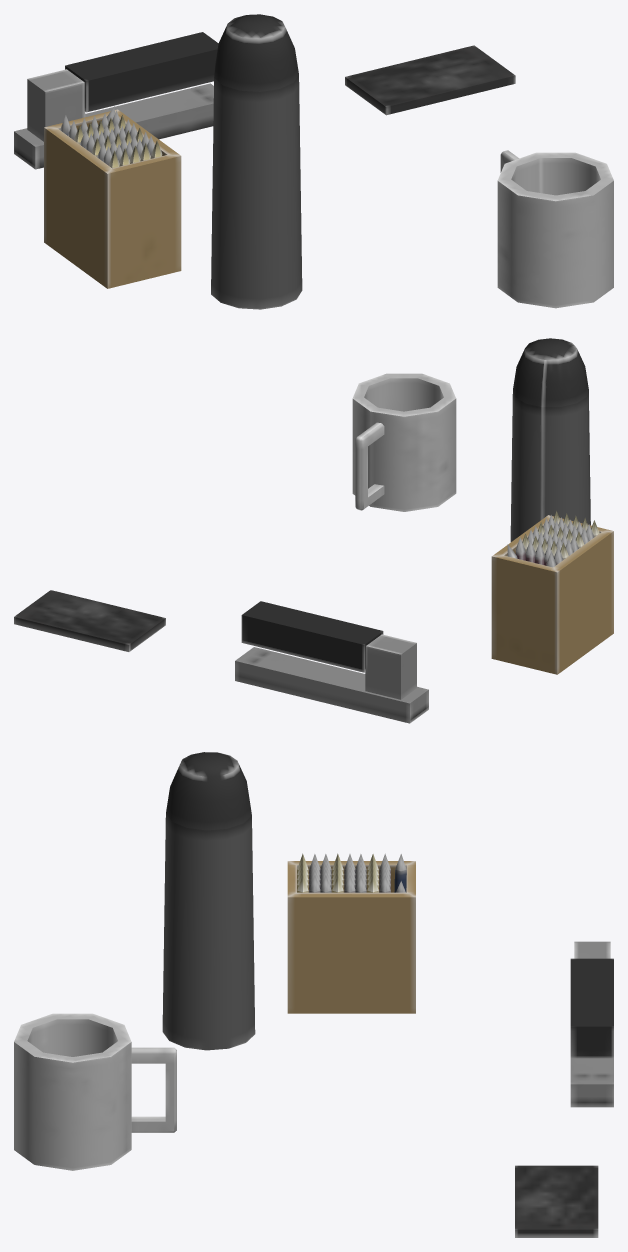
The model's file is tablemisc.fbx.
3 renders of one model, top to bottom at view 1: azimuth 30°, elevation 25°; view 2: azimuth 150°, elevation 25°; view 3: azimuth 270°, elevation 25°, orthographic. The views are drawn at different scales.
Parts seen in each view (by area): view 1: Thermos_can.001, boxofpen, mug, Stapler.001, Phone.001; view 2: boxofpen, Stapler.001, Thermos_can.001, mug, Phone.001; view 3: Thermos_can.001, boxofpen, mug, Stapler.001, Phone.001.
Boxes of the visible parts, left/top/right/bottom form: Thermos_can.001: left=211, top=14, right=302, bottom=309; boxofpen: left=44, top=106, right=181, bottom=288; mug: left=497, top=150, right=613, bottom=308; Stapler.001: left=14, top=32, right=218, bottom=169; Phone.001: left=345, top=45, right=515, bottom=115; boxofpen: left=491, top=511, right=613, bottom=674; Stapler.001: left=235, top=601, right=428, bottom=723; Thermos_can.001: left=510, top=338, right=590, bottom=541; mug: left=352, top=373, right=456, bottom=511; Phone.001: left=14, top=590, right=165, bottom=651; Thermos_can.001: left=162, top=752, right=255, bottom=1050; boxofpen: left=287, top=853, right=415, bottom=1013; mug: left=14, top=1013, right=176, bottom=1170; Stapler.001: left=570, top=941, right=613, bottom=1107; Phone.001: left=515, top=1165, right=598, bottom=1237.
Size of the model in its own units: 59.68 by 29.93 by 58.97.
